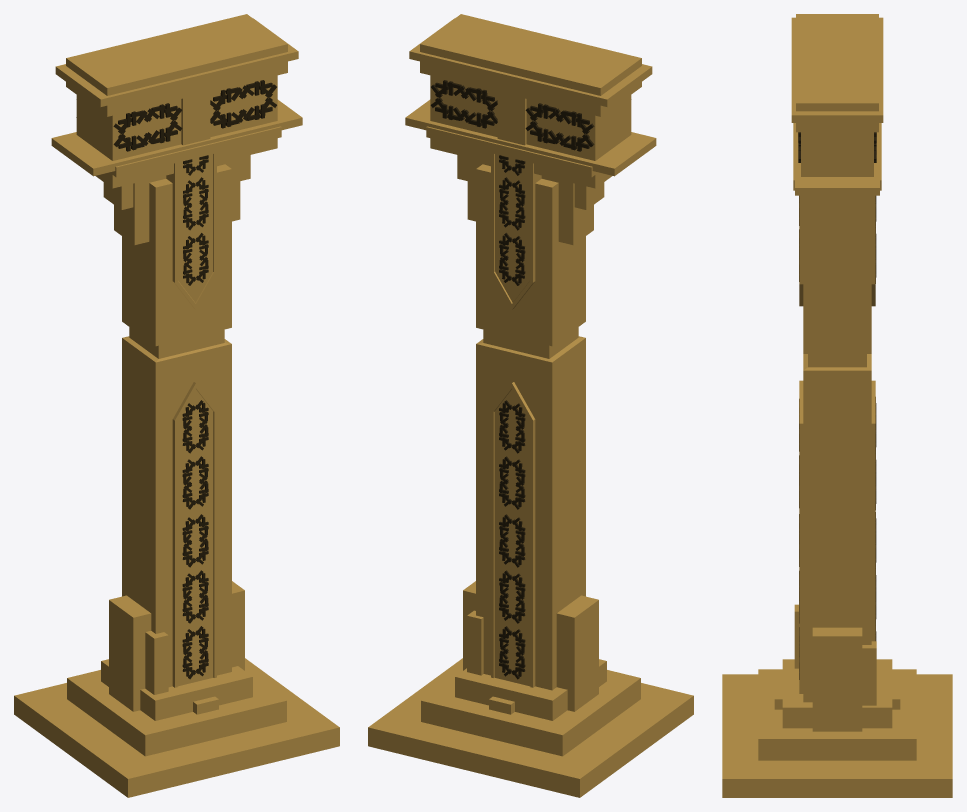
Rendered from Pillar.fbx.
3 views of the same model, side by side, from view 1: azimuth 30°, elevation 25°; view 2: azimuth 150°, elevation 25°; view 3: azimuth 270°, elevation 25° (orthographic).
Parts seen in each view (by area): view 1: Pillar, Front writing; view 2: Pillar, Back writing; view 3: Pillar, Back writing, Front writing.
Part boxes in pixels (x1=…): Pillar: x1=14, y1=14, x2=339, y2=797; Front writing: x1=113, y1=80, x2=276, y2=679; Pillar: x1=368, y1=14, x2=693, y2=797; Back writing: x1=430, y1=80, x2=594, y2=679; Pillar: x1=722, y1=14, x2=952, y2=797; Back writing: x1=874, y1=132, x2=876, y2=640; Front writing: x1=798, y1=132, x2=800, y2=679.
Size of the model in its own units: 401 by 1230 by 374.
